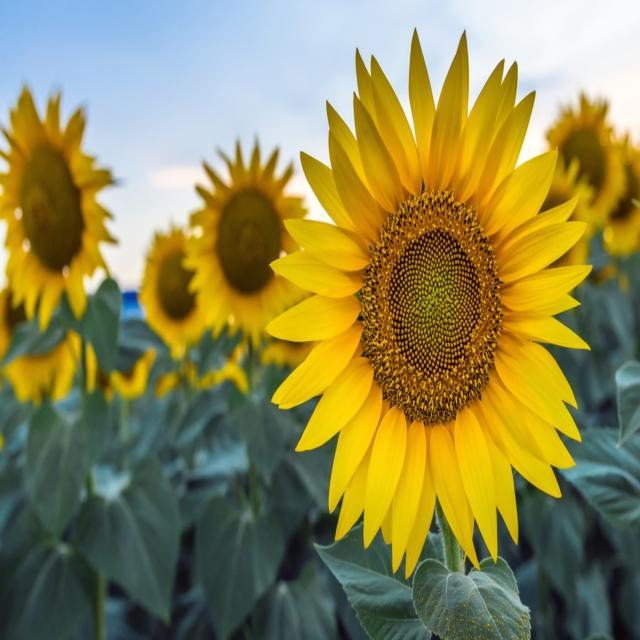sunflower: (264, 26, 592, 578), (0, 83, 119, 332), (182, 134, 310, 352), (2, 285, 96, 406), (544, 90, 624, 232), (138, 224, 207, 360), (530, 147, 592, 278), (602, 132, 639, 256), (185, 328, 248, 392), (99, 344, 156, 404), (264, 316, 314, 368), (158, 372, 178, 398)
